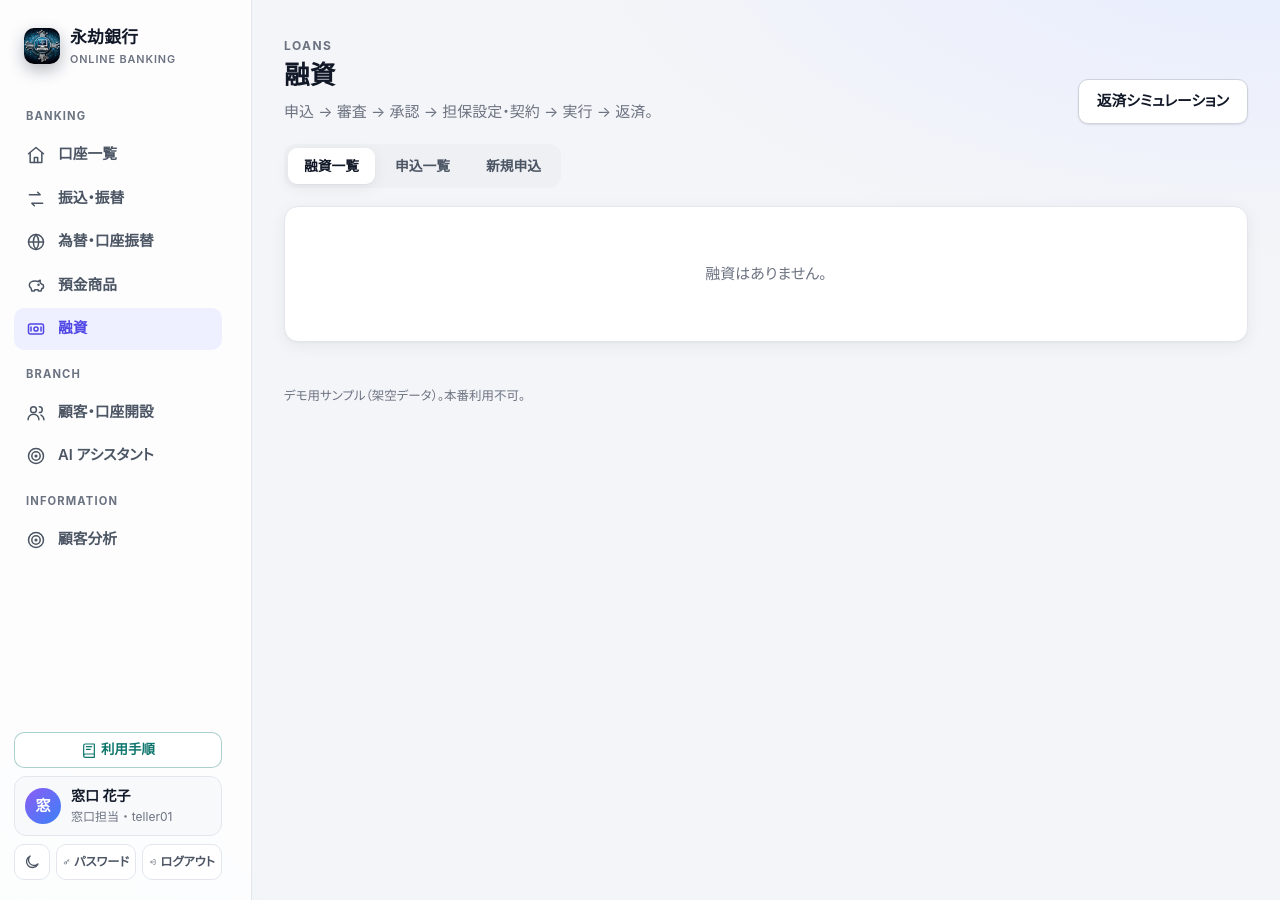
Test: LoansPage › 申込一覧：格付・スコア・推奨判定を表示する
The width and height of the screenshot is (1280, 900).
Step 1. Click the tab "申込一覧" → (422, 166), box [379,148,466,184]
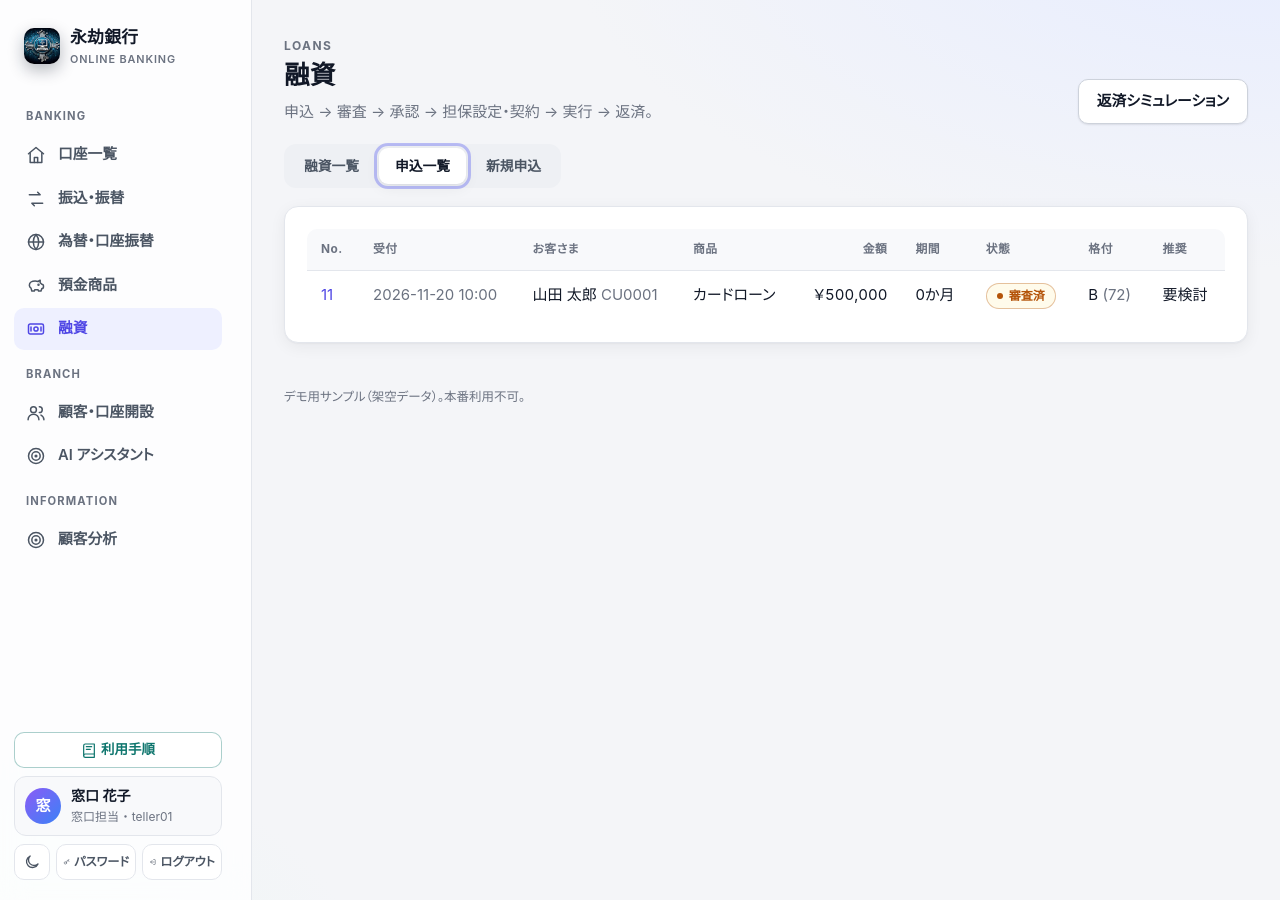
Result: the text "(72)" is shown at [1098,285,1131,304]
Result: the text "要検討" is shown at [1148,271,1225,320]
